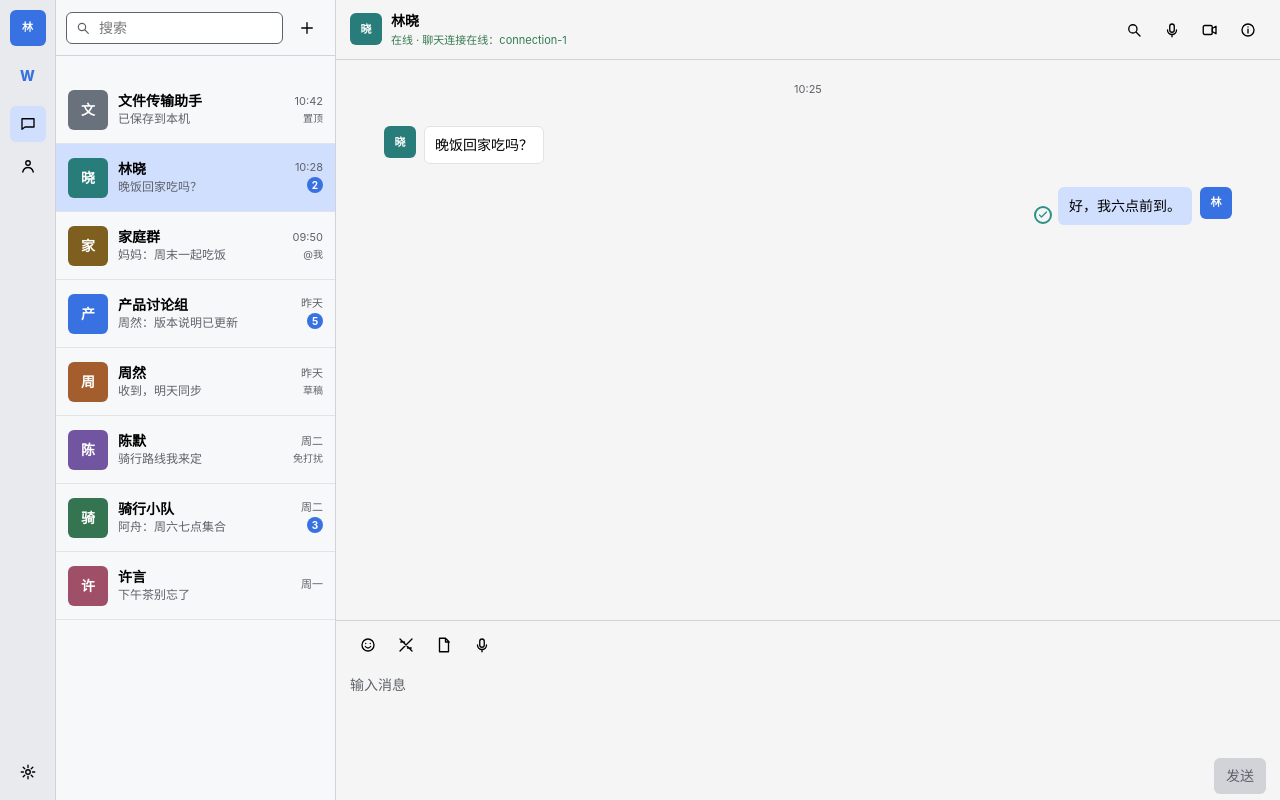
Test: AuthenticatedPage › passes the selected reply through the page into the WebSocket transport
Right-click the text "晚饭回家吃吗？" below "10:25" at (484, 145), box [424,126,544,164]
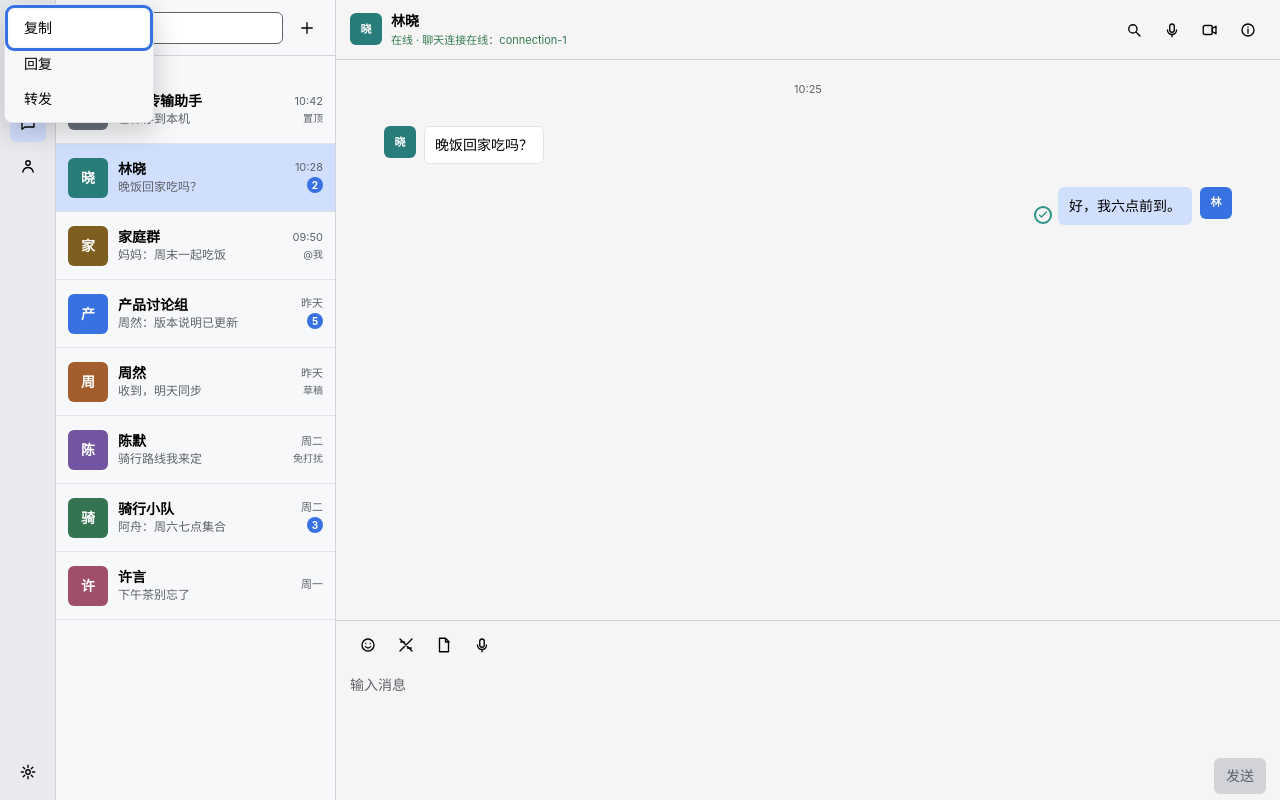
Click the menu item "回复" at (79, 63), box [10,46,148,81]
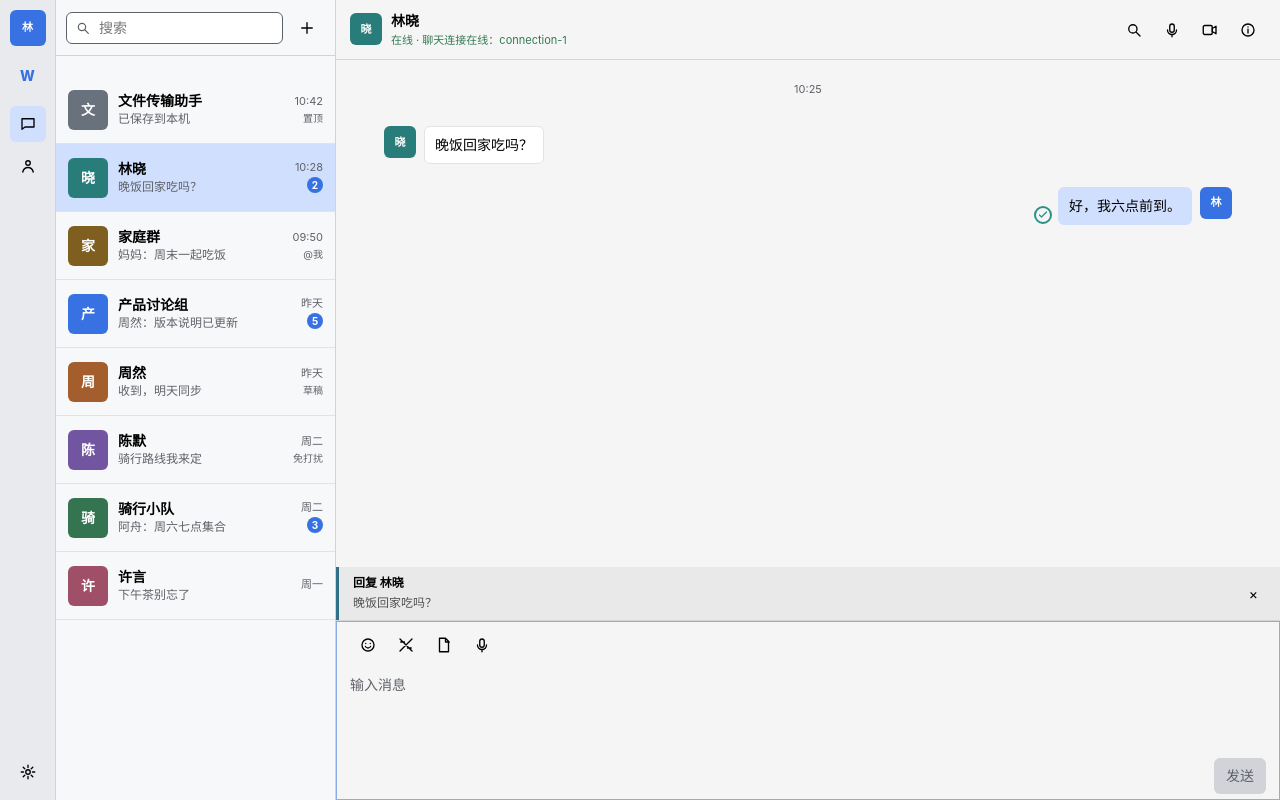
Type "我会回家" into the field named "输入消息" at (808, 684), box [350,667,1266,702]
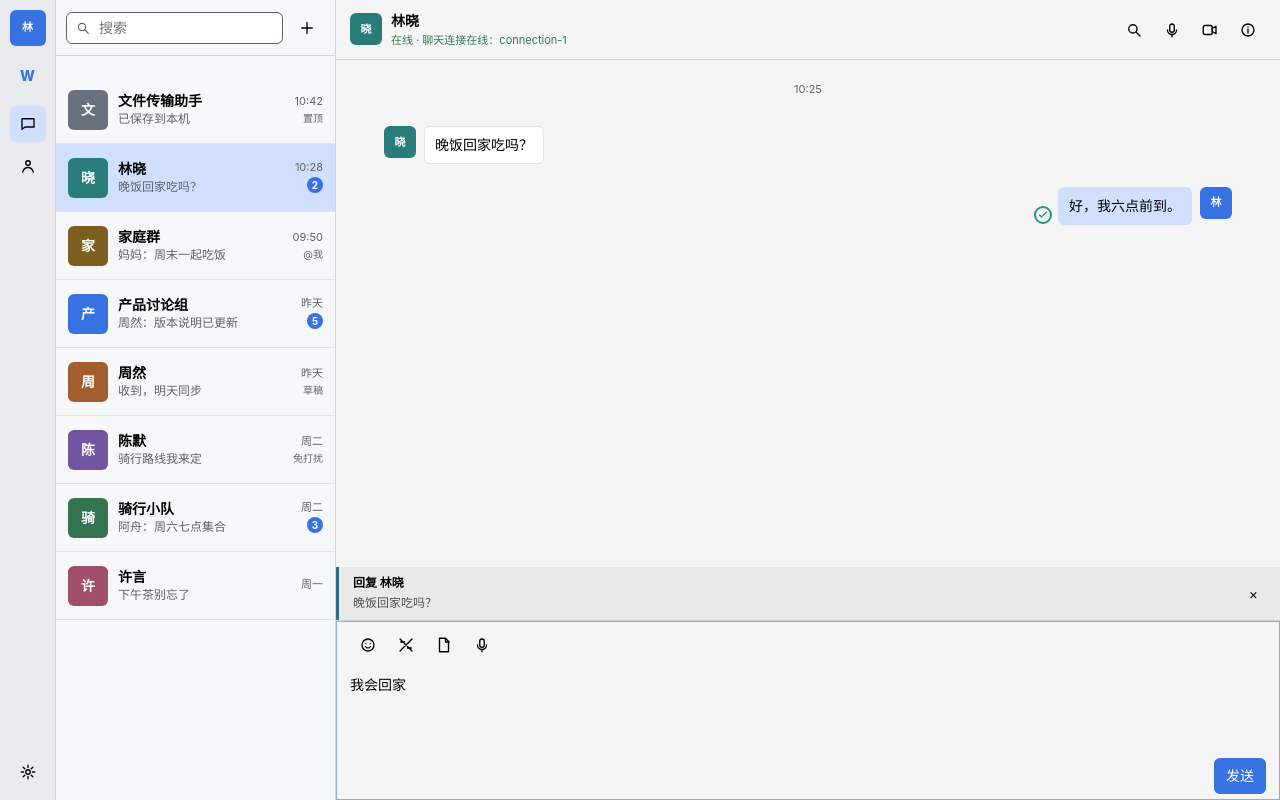
Click the button with aria-label "发送消息" at (1240, 776), box [1214,758,1266,794]
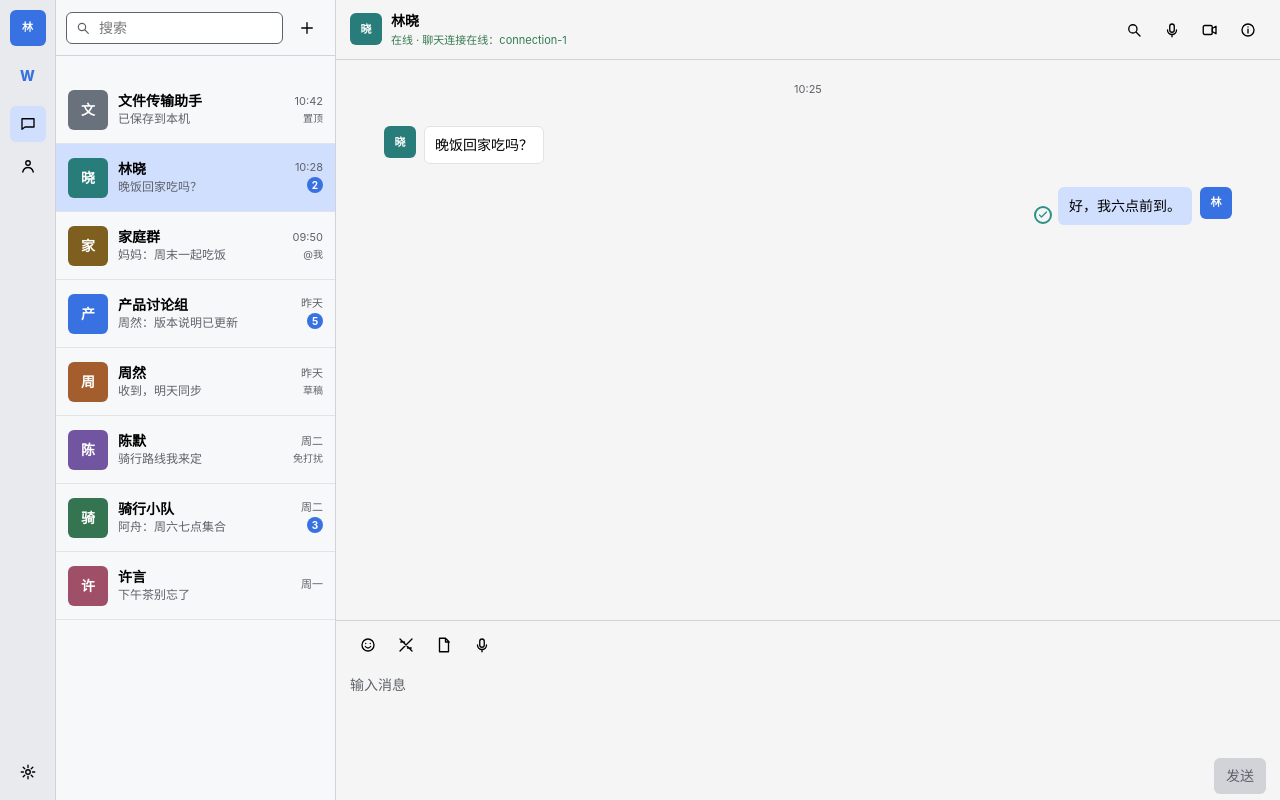
Result: the element "回复消息" is gone
